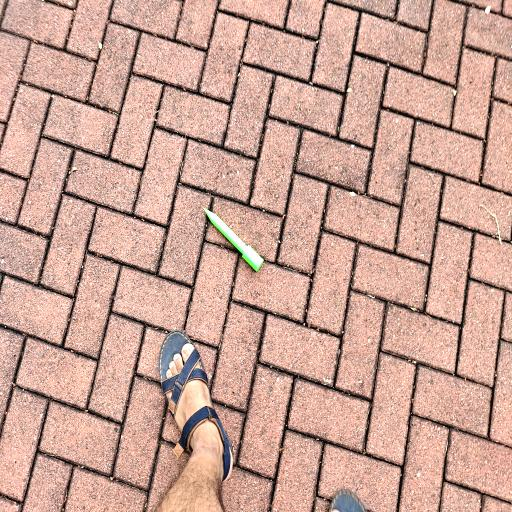Probe-Detection: (204, 209, 264, 272)
